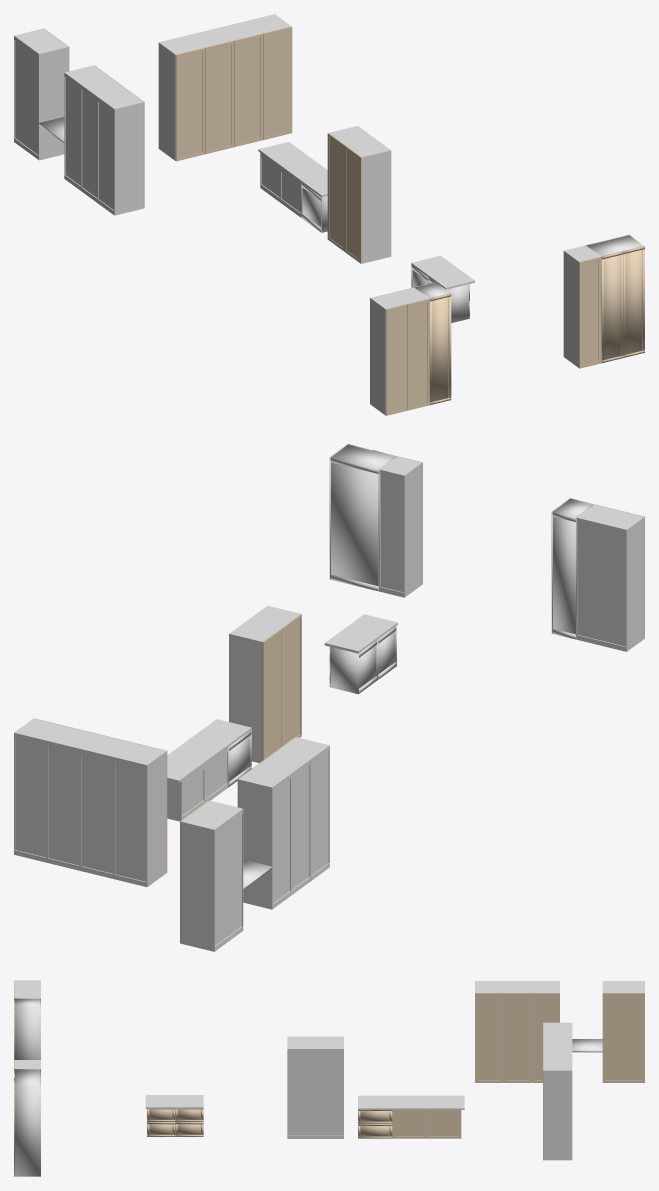
The model's file is First_Floor.glb.
The picture shows the model from 3 angles, top to bottom: view 1: azimuth 30°, elevation 25°; view 2: azimuth 150°, elevation 25°; view 3: azimuth 270°, elevation 25°; orthographic projection. The views are drawn at different scales.
Visible parts, largest first — view 1: 1_Door_010_mesh_001, 1_Door_019_mesh_000, 1_Door_015_mesh_008, Mixed_024_mesh_000, 1_Door_018_mesh_008, 1_Door_016_mesh_008, 1_Door_017_mesh_008, Mixed_024_mesh_006, 2_Door_002_mesh_008, 1_Door_015_mesh_000, 1_Door_004_mesh_008, 2_Door_005_mesh_009 (+16 smaller); view 2: 2_Door_002_mesh_005, 2_Door_005_mesh_005, Mixed_024_mesh_001, 1_Door_017_mesh_005, 1_Door_015_mesh_005, 1_Door_018_mesh_005, 1_Door_016_mesh_005, 1_Door_009_mesh_000, 1_Door_021_mesh_001, Mixed_024_mesh_006, 1_Door_003_mesh_005, 1_Door_004_mesh_005 (+14 smaller); view 3: 1_Door_018_mesh_001, 2_Door_005_mesh_001, 1_Door_009_mesh_005, 1_Door_010_mesh_005, 1_Door_019_mesh_008, 1_Door_020_mesh_008, Mixed_024_mesh_048, Worktop_014_mesh_000, 1_Door_003_mesh_001, 1_Door_021_mesh_008, Worktop_008_mesh_000, Mixed_024_mesh_055 (+18 smaller).
Part boxes in pixels (x1,y1,x2,y2): 1_Door_010_mesh_001: [362, 150, 391, 263]; 1_Door_019_mesh_000: [114, 102, 143, 215]; 1_Door_015_mesh_008: [175, 47, 204, 160]; Mixed_024_mesh_000: [38, 46, 68, 160]; 1_Door_018_mesh_008: [263, 26, 291, 136]; 1_Door_016_mesh_008: [205, 40, 233, 150]; 1_Door_017_mesh_008: [233, 33, 262, 143]; Mixed_024_mesh_006: [15, 41, 38, 154]; 2_Door_002_mesh_008: [385, 304, 406, 415]; 1_Door_015_mesh_000: [158, 42, 175, 160]; 1_Door_004_mesh_008: [579, 256, 600, 367]; 2_Door_005_mesh_009: [623, 246, 644, 354]; 2_Door_002_mesh_005: [578, 519, 625, 646]; 2_Door_005_mesh_005: [331, 462, 378, 586]; Mixed_024_mesh_001: [181, 821, 214, 951]; 1_Door_017_mesh_005: [48, 743, 79, 865]; 1_Door_015_mesh_005: [115, 757, 146, 881]; 1_Door_018_mesh_005: [15, 733, 46, 857]; 1_Door_016_mesh_005: [82, 750, 112, 873]; 1_Door_009_mesh_000: [229, 633, 262, 763]; 1_Door_021_mesh_001: [239, 779, 272, 909]; Mixed_024_mesh_006: [215, 814, 241, 945]; 1_Door_003_mesh_005: [553, 513, 575, 634]; 1_Door_004_mesh_005: [381, 469, 403, 592]; 1_Door_018_mesh_001: [544, 1070, 572, 1160]; 2_Door_005_mesh_001: [15, 1086, 40, 1176]; 1_Door_009_mesh_005: [316, 1052, 343, 1134]; 1_Door_010_mesh_005: [288, 1052, 314, 1134]; 1_Door_019_mesh_008: [475, 993, 502, 1080]; 1_Door_020_mesh_008: [504, 993, 531, 1080]; Mixed_024_mesh_048: [603, 993, 644, 1044]; Worktop_014_mesh_000: [358, 1095, 464, 1109]; 1_Door_003_mesh_001: [15, 1007, 40, 1059]; 1_Door_021_mesh_008: [532, 993, 559, 1080]; Worktop_008_mesh_000: [145, 1095, 203, 1108]; Mixed_024_mesh_055: [603, 981, 644, 992].
Size of the model in its own units: 5.35 by 2.1 by 13.37.
